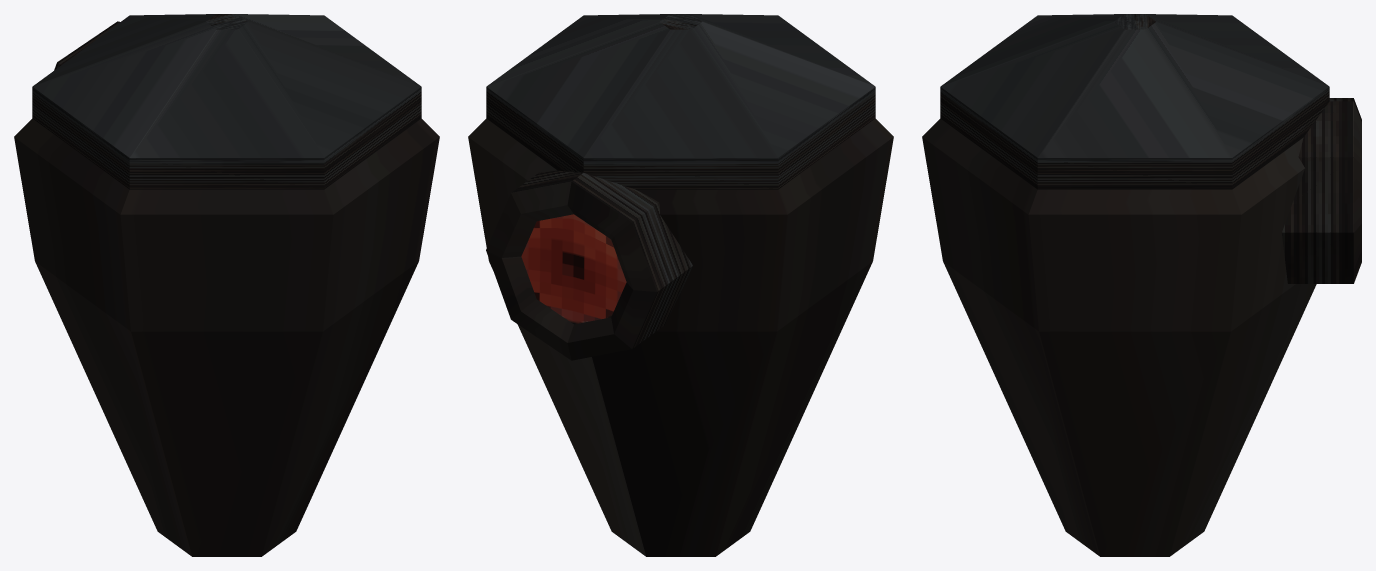
Rendered from ennemi_head_v1.fbx.
3 views of the same model, side by side, from view 1: azimuth 30°, elevation 25°; view 2: azimuth 150°, elevation 25°; view 3: azimuth 270°, elevation 25° (orthographic).
Parts seen in each view (by area): view 1: Cylinder.002; view 2: Cylinder.002; view 3: Cylinder.002.
Boxes of the visible parts, bbox=[...] form: Cylinder.002: bbox=[14, 14, 439, 556]; Cylinder.002: bbox=[468, 14, 893, 556]; Cylinder.002: bbox=[922, 14, 1361, 556].
Size of the model in its own units: 130 by 155 by 198.
